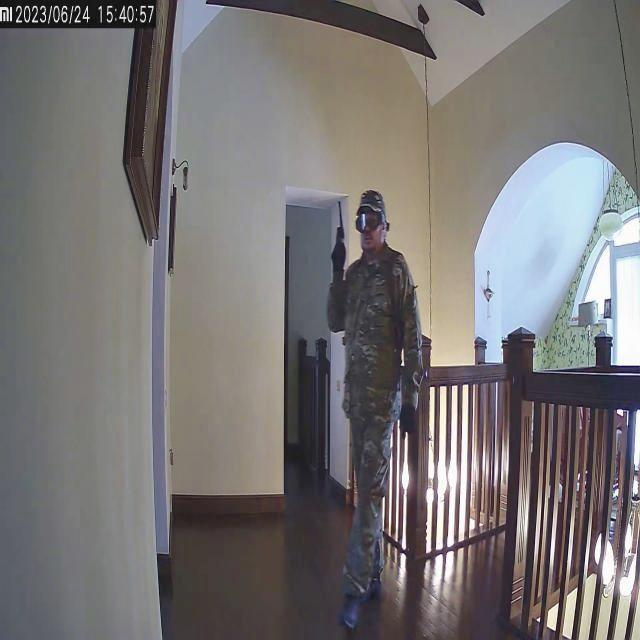gun: (332, 188, 424, 640), (334, 199, 346, 251)
